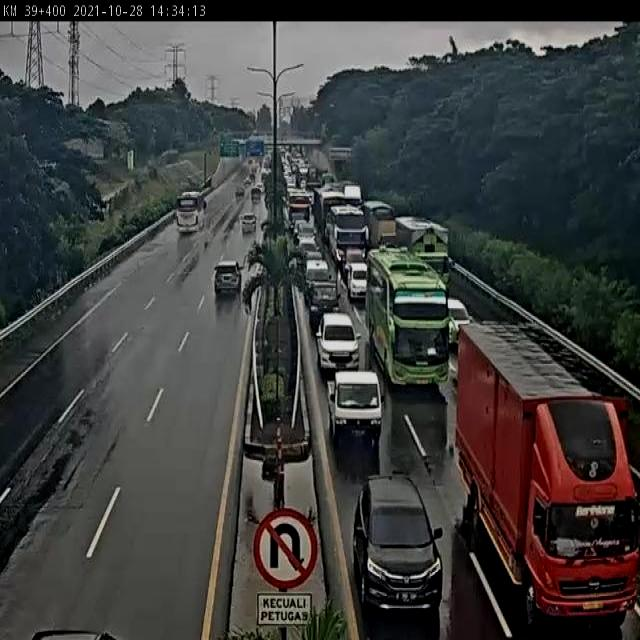Bus: (366, 246, 453, 391), (325, 203, 368, 272), (312, 186, 350, 242), (176, 190, 207, 234)
Car: (355, 474, 444, 616), (314, 311, 360, 374), (213, 259, 242, 295), (344, 260, 368, 302), (240, 212, 258, 234), (255, 181, 264, 194)
Truck: (455, 321, 636, 623), (328, 369, 384, 454), (398, 218, 450, 281), (362, 200, 396, 251)
